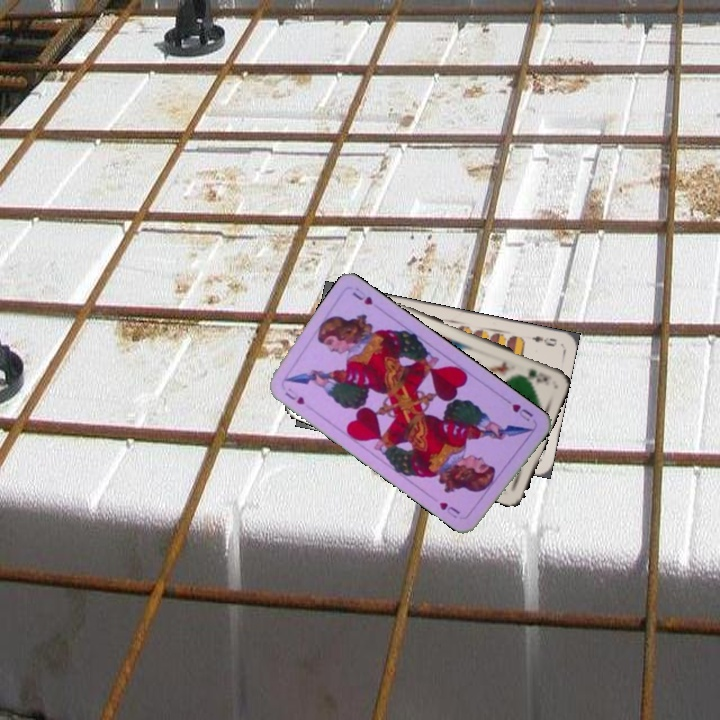E9: (528, 332, 559, 349)
GK: (524, 365, 550, 384)
HU: (508, 400, 535, 424), (281, 384, 307, 407)
